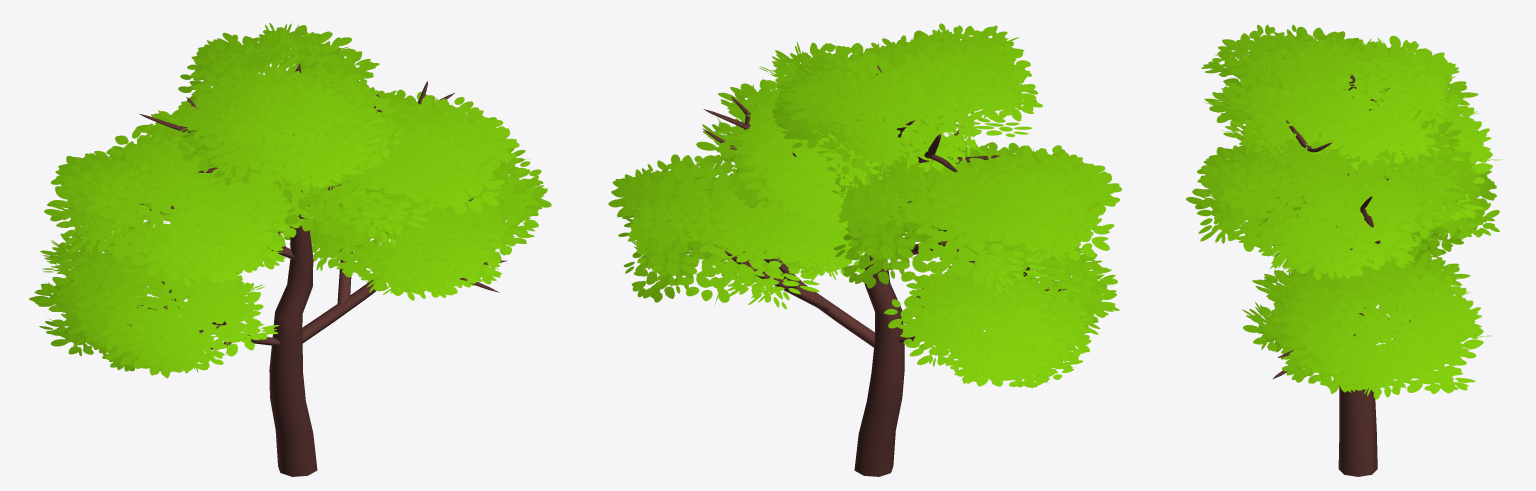
File: gRAMAtEXTURA.glb
3 renders of one model, left to right at view 1: azimuth 30°, elevation 25°; view 2: azimuth 150°, elevation 25°; view 3: azimuth 270°, elevation 25°, orthographic. The views are drawn at different scales.
Parts seen in each view (by area): view 1: NormalTree_2; view 2: NormalTree_2; view 3: NormalTree_2.
Part boxes in pixels (x1,y1,x2,y2): NormalTree_2: [29, 23, 551, 476]; NormalTree_2: [608, 23, 1121, 476]; NormalTree_2: [1186, 24, 1503, 476].
Size of the model in its own units: 8.13 by 6.56 by 4.99.
2 materials, 1 textured.
